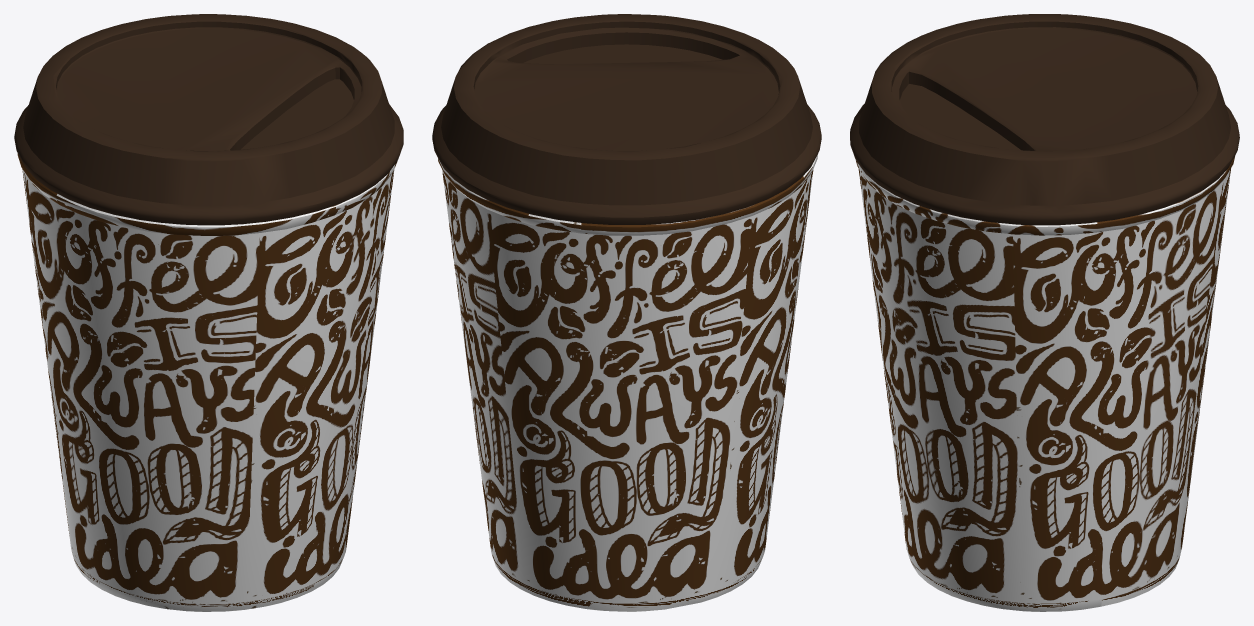
The model's file is mug.fbx.
3 renders of one model, left to right at view 1: azimuth 30°, elevation 25°; view 2: azimuth 150°, elevation 25°; view 3: azimuth 270°, elevation 25°, orthographic.
Parts seen in each view (by area): view 1: coffee_cup; view 2: coffee_cup; view 3: coffee_cup.
Boxes of the visible parts, <box> form: coffee_cup: <box>14,14,403,611</box>; coffee_cup: <box>432,14,821,611</box>; coffee_cup: <box>850,14,1239,611</box>.
Bounding box in the file's own units: 50.72 × 67.79 × 50.73.
Materials: 2 (1 with a texture image).
